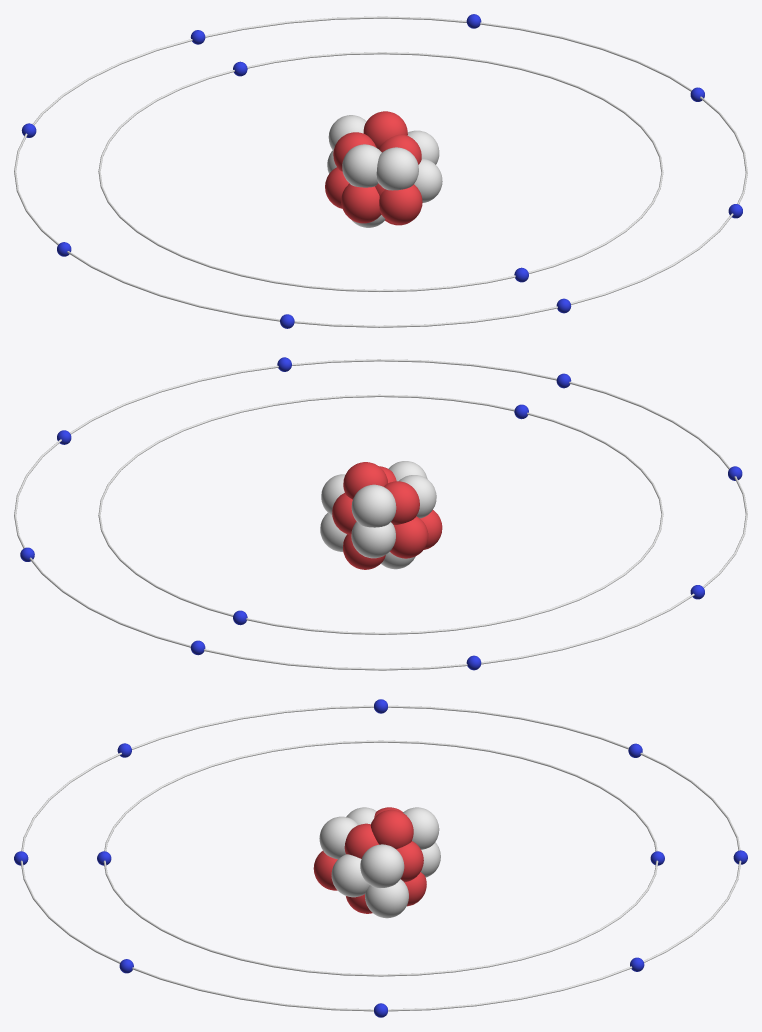
Rendered from Neon.glb.
The picture shows the model from 3 angles, top to bottom: view 1: azimuth 30°, elevation 25°; view 2: azimuth 150°, elevation 25°; view 3: azimuth 270°, elevation 25°; orthographic projection.
Parts seen in each view (by area): view 1: L-Schale, K-Schale, Neutron 10, Neutron 7, Proton 10, Proton 7, Proton 6, Neutron 4, Neutron 9, Proton 9, Proton 8, Neutron 6 (+1 smaller); view 2: L-Schale, K-Schale, Neutron 9, Neutron 8, Proton 8, Proton 6, Proton 9, Neutron 7, Proton 5, Proton 4, Neutron 5, Neutron 6; view 3: L-Schale, K-Schale, Neutron 6, Proton 6, Neutron 5, Neutron 4, Neutron 10, Neutron 9, Proton 2, Proton 5, Proton 10.
Boxes of the visible parts, box(x1,y1,x2,y2) form: L-Schale: box(14, 16, 747, 327); K-Schale: box(98, 52, 663, 291); Neutron 10: box(376, 147, 418, 190); Neutron 7: box(342, 144, 381, 187); Proton 10: box(379, 184, 422, 224); Proton 7: box(341, 183, 381, 223); Proton 6: box(363, 111, 407, 148); Neutron 4: box(414, 158, 442, 202); Neutron 9: box(328, 115, 366, 150); Proton 9: box(333, 132, 376, 171); Proton 8: box(325, 167, 349, 208); Neutron 6: box(407, 130, 439, 164); L-Schale: box(14, 359, 747, 670); K-Schale: box(98, 394, 663, 634); Neutron 9: box(351, 484, 396, 527); Neutron 8: box(351, 521, 395, 558); Proton 8: box(390, 516, 428, 558); Proton 6: box(343, 462, 387, 499); Proton 9: box(384, 481, 419, 524); Neutron 7: box(399, 475, 436, 518); Proton 5: box(332, 493, 356, 534); Proton 4: box(343, 534, 385, 569); Neutron 5: box(320, 513, 346, 551); Neutron 6: box(321, 474, 345, 515); L-Schale: box(20, 705, 741, 1011); K-Schale: box(103, 740, 658, 976); Neutron 6: box(360, 844, 404, 887); Proton 6: box(370, 809, 413, 849); Neutron 5: box(365, 879, 408, 918); Neutron 4: box(331, 854, 369, 897); Neutron 10: box(319, 816, 358, 859); Neutron 9: box(403, 807, 439, 849); Proton 2: box(344, 823, 378, 858); Proton 5: box(396, 841, 423, 882); Proton 10: box(313, 851, 337, 890).
Size of the model in its own units: 13.26 by 2 by 13.26.
